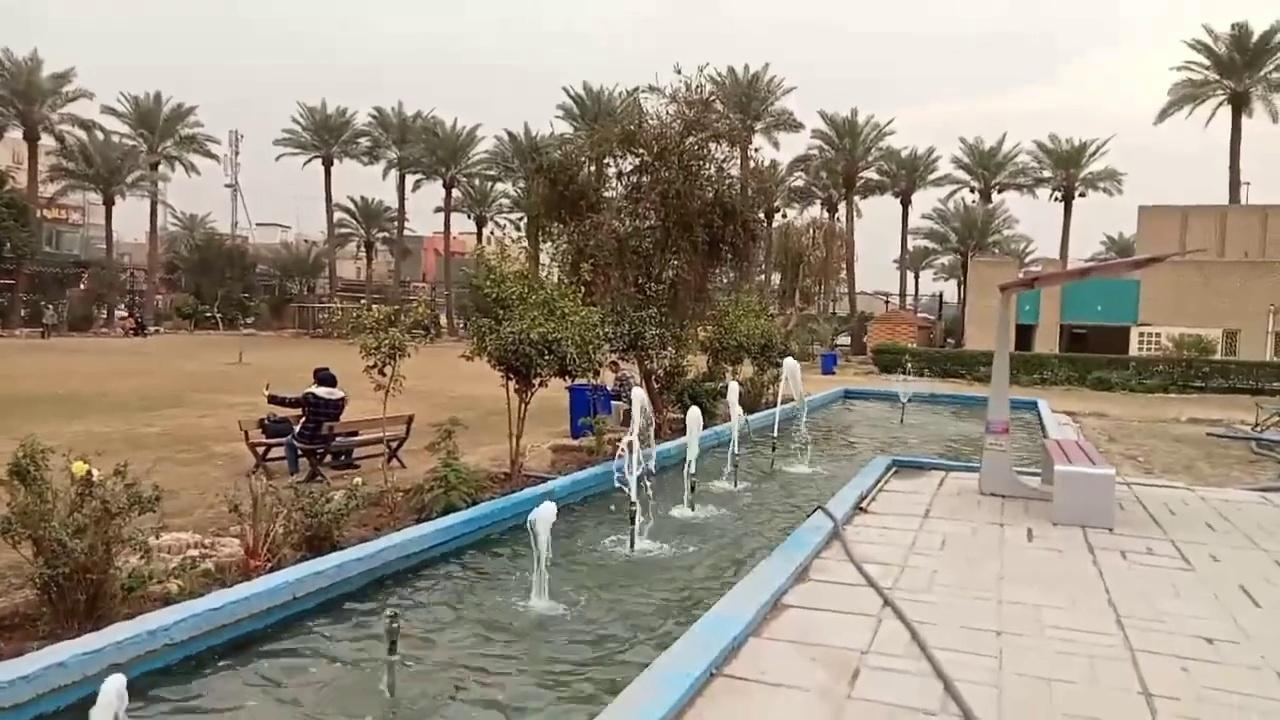fountain: (1, 359, 1115, 718), (606, 354, 812, 554), (610, 384, 658, 553), (514, 497, 569, 616), (87, 671, 130, 718)
person: (260, 366, 347, 483), (605, 359, 635, 427), (41, 303, 57, 339)
tree: (0, 431, 166, 636), (98, 88, 221, 324), (458, 260, 590, 479), (41, 117, 164, 326), (698, 60, 802, 293), (799, 105, 896, 354), (1152, 17, 1279, 203), (552, 79, 648, 305), (271, 96, 374, 304), (0, 44, 94, 259), (399, 116, 491, 335), (337, 297, 439, 476), (909, 194, 1017, 346), (358, 99, 438, 302), (1020, 131, 1126, 270), (484, 120, 570, 281), (871, 143, 941, 311), (432, 174, 512, 320), (770, 214, 849, 359), (698, 288, 785, 416), (781, 151, 848, 315), (554, 78, 642, 195), (744, 156, 802, 302), (174, 234, 260, 330), (329, 193, 398, 308), (935, 130, 1029, 209), (265, 237, 331, 329), (0, 165, 36, 330), (435, 176, 510, 246), (162, 208, 217, 297), (769, 217, 816, 314), (890, 242, 938, 315), (164, 208, 216, 254), (1098, 230, 1136, 258)
